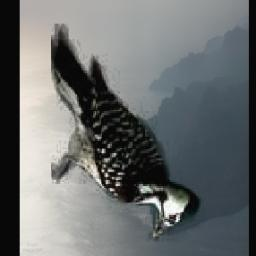Woodpecker: (50, 24, 203, 242)
